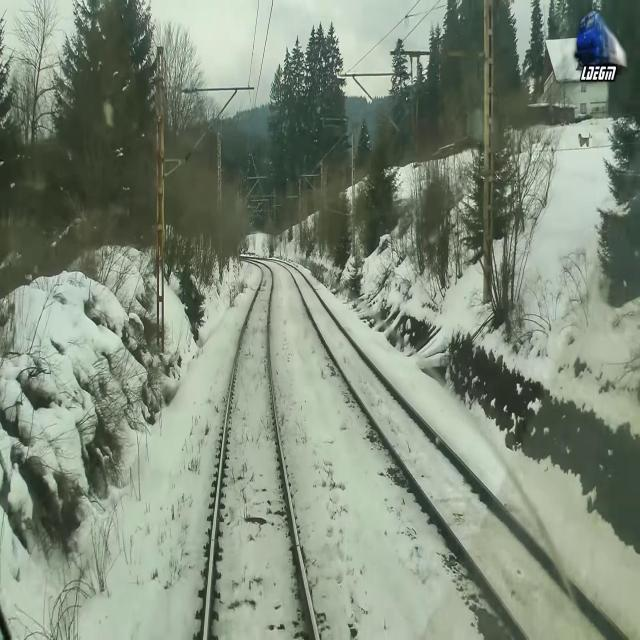rail-track: (284, 264, 623, 639), (207, 263, 314, 639)
